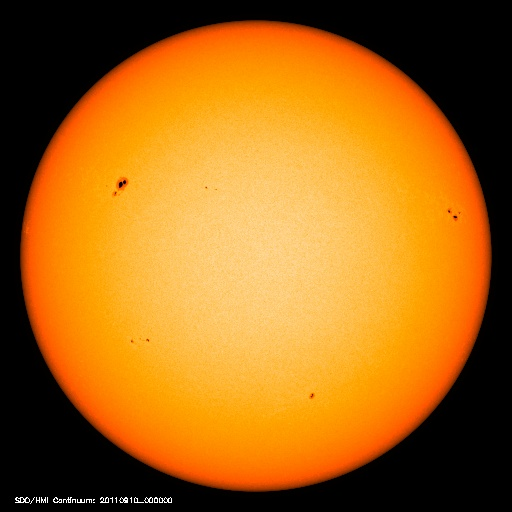sunspot: (104, 172, 139, 202), (437, 199, 471, 229), (123, 330, 158, 353), (295, 384, 328, 407)
